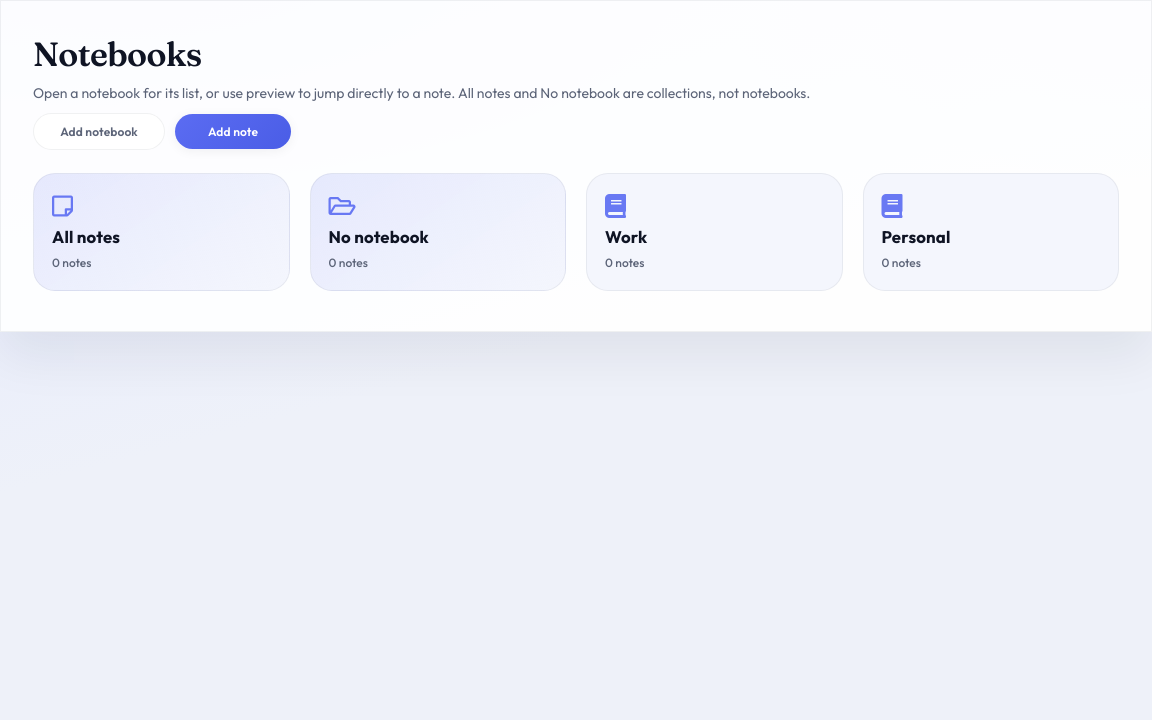
Scenario: refreshes an open preview when notes change
This screenshot has width=1152, height=720.
Click the button "No notebook 0 notes" at (438, 232), box [310,173,566,291]
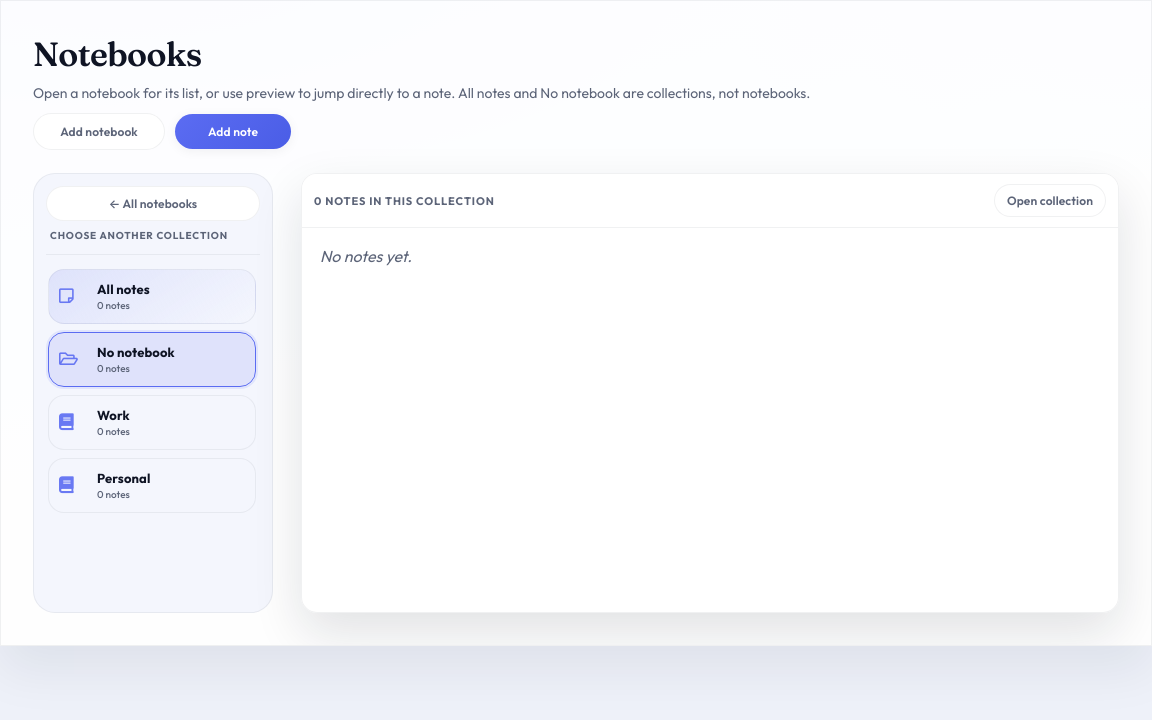
Now the text "No notes yet." is shown, box [320,246,412,266]
